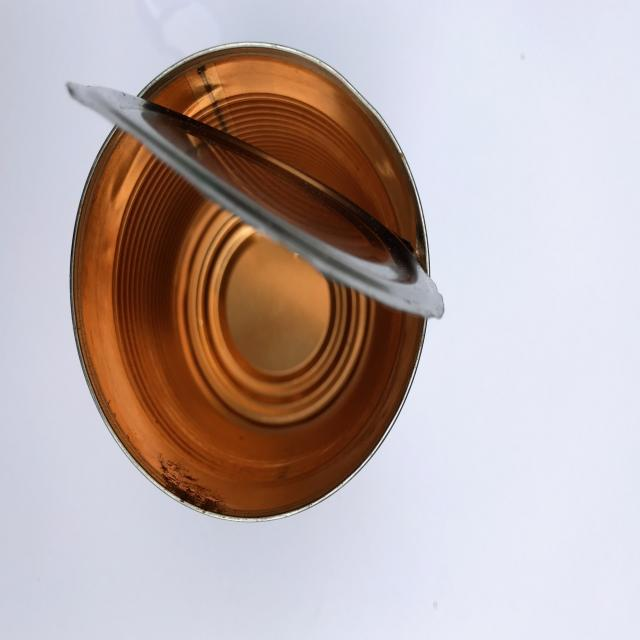metal: (67, 41, 442, 522)
